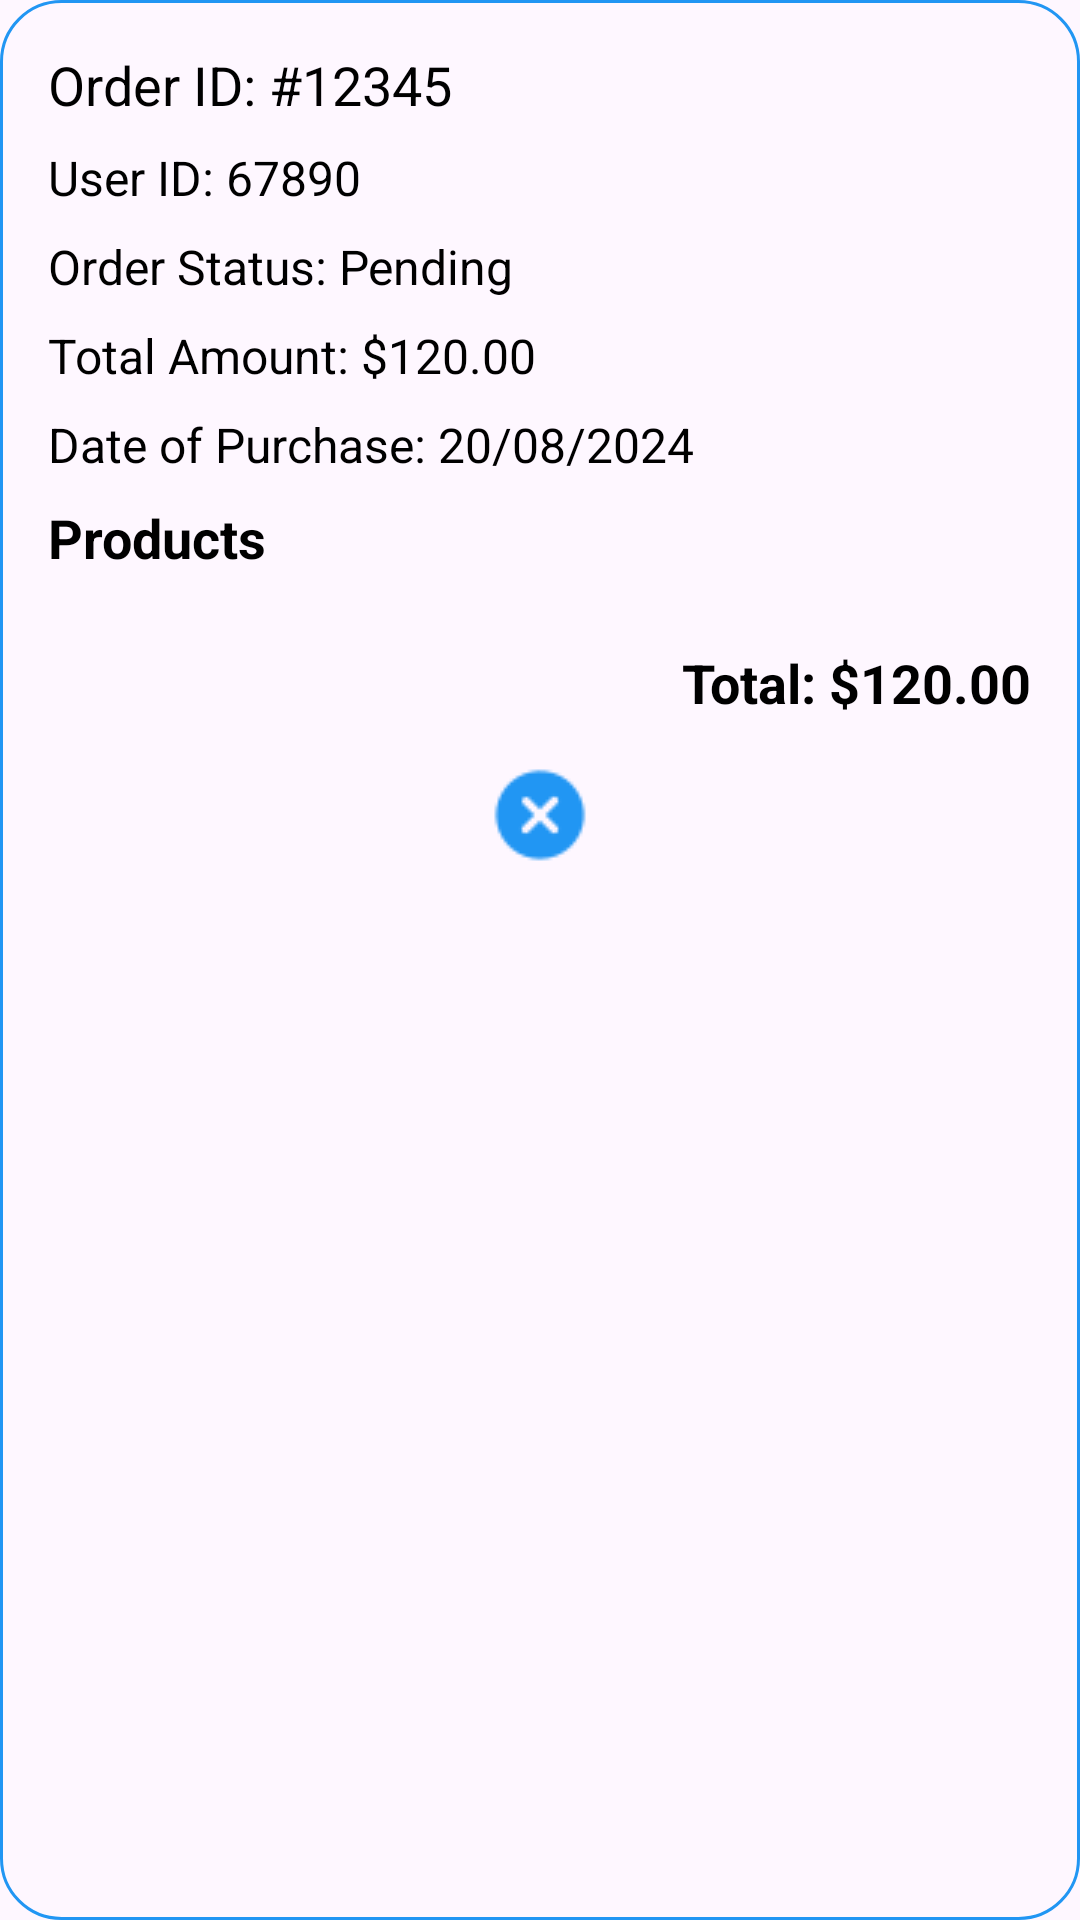

Icons on this 1080px x 1920px Android screen, each with the point to tap as (x,y):
close: (540,815)
